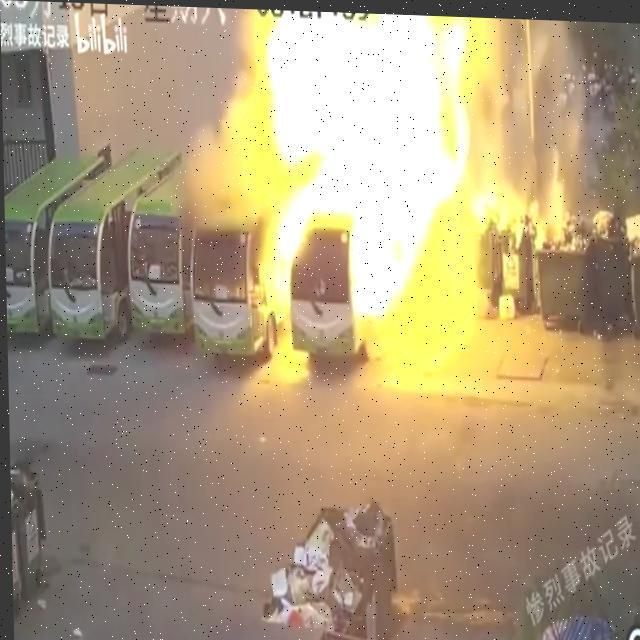multiple_accident: (183, 81, 501, 374)
